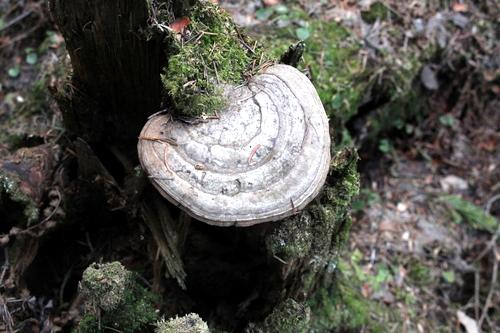Ganoderma - Fruit Body: (140, 63, 333, 224)
